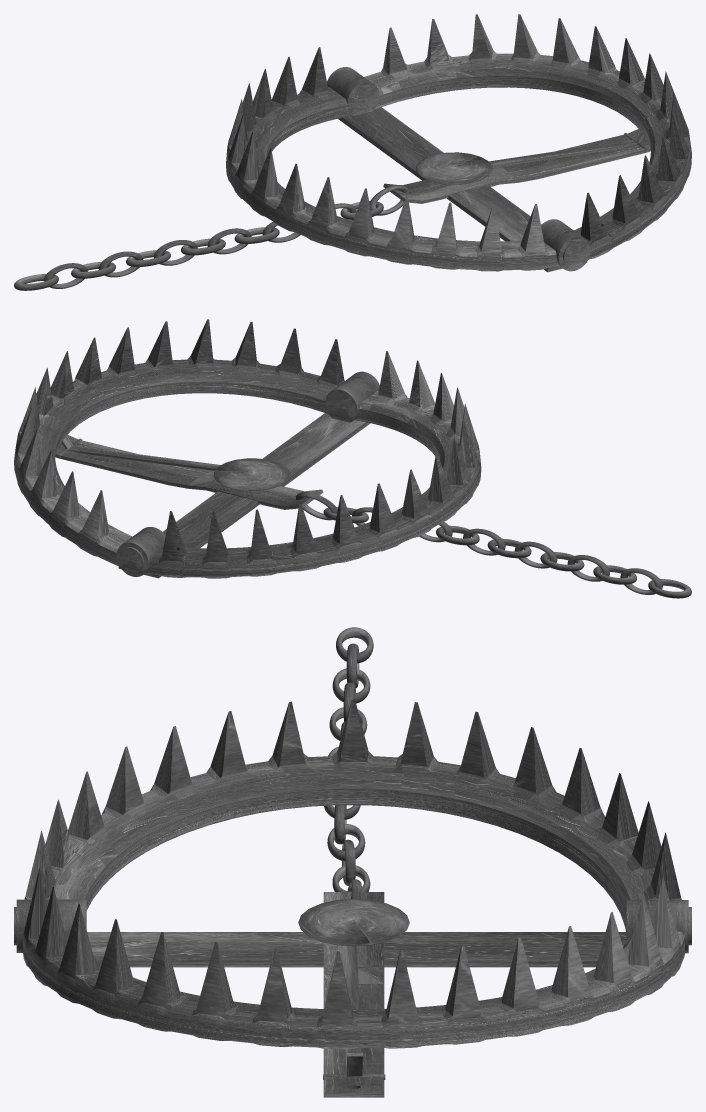
The model's file is beartrap.fbx.
3 renders of one model, top to bottom at view 1: azimuth 30°, elevation 25°; view 2: azimuth 150°, elevation 25°; view 3: azimuth 270°, elevation 25°, orthographic. The views are drawn at different scales.
Visible parts, largest first — view 1: pCube2, pCube8, base, base_chain, mechanism, cylinder_2, cylinder_1, pCube6, pTorus18, cylinder_3, pTorus17, pTorus16 (+7 smaller); view 2: pCube2, pCube8, base, base_chain, mechanism, cylinder_1, cylinder_2, pCube6, pTorus18, cylinder_4, pTorus12, pTorus16 (+7 smaller); view 3: pCube8, pCube2, base, base_chain, mechanism, cylinder_1, cylinder_2, pCube6, pTorus18.
Boxes of the visible parts, left/top/right/bottom form: pCube2: left=364, top=14, right=691, bottom=259; pCube8: left=226, top=47, right=560, bottom=271; base: left=338, top=107, right=587, bottom=272; base_chain: left=383, top=129, right=650, bottom=203; mechanism: left=416, top=152, right=492, bottom=184; cylinder_2: left=327, top=67, right=379, bottom=115; cylinder_1: left=541, top=219, right=590, bottom=271; pCube6: left=489, top=140, right=637, bottom=167; pTorus18: left=14, top=274, right=58, bottom=290; cylinder_3: left=563, top=241, right=587, bottom=267; pTorus17: left=44, top=263, right=87, bottom=288; pTorus16: left=71, top=262, right=115, bottom=278; pCube2: left=14, top=319, right=344, bottom=566; pCube8: left=145, top=351, right=481, bottom=578; base: left=118, top=413, right=370, bottom=578; base_chain: left=55, top=434, right=323, bottom=509; mechanism: left=213, top=458, right=290, bottom=490; cylinder_1: left=325, top=371, right=379, bottom=422; cylinder_2: left=116, top=527, right=165, bottom=576; pCube6: left=69, top=446, right=220, bottom=470; pTorus18: left=648, top=579, right=691, bottom=598; cylinder_4: left=119, top=547, right=143, bottom=572; pTorus12: left=487, top=538, right=531, bottom=558; pTorus16: left=593, top=565, right=636, bottom=584; pCube8: left=24, top=699, right=681, bottom=935; pCube2: left=23, top=868, right=685, bottom=1049; base: left=87, top=932, right=626, bottom=967; base_chain: left=323, top=892, right=384, bottom=1097; mechanism: left=298, top=899, right=409, bottom=946; cylinder_1: left=16, top=899, right=86, bottom=952; cylinder_2: left=626, top=900, right=688, bottom=953; pCube6: left=341, top=945, right=361, bottom=1072; pTorus18: left=336, top=627, right=373, bottom=663.
Size of the model in its own units: 8.39 by 1.24 by 5.18.
Materials: 1 (1 with a texture image).
